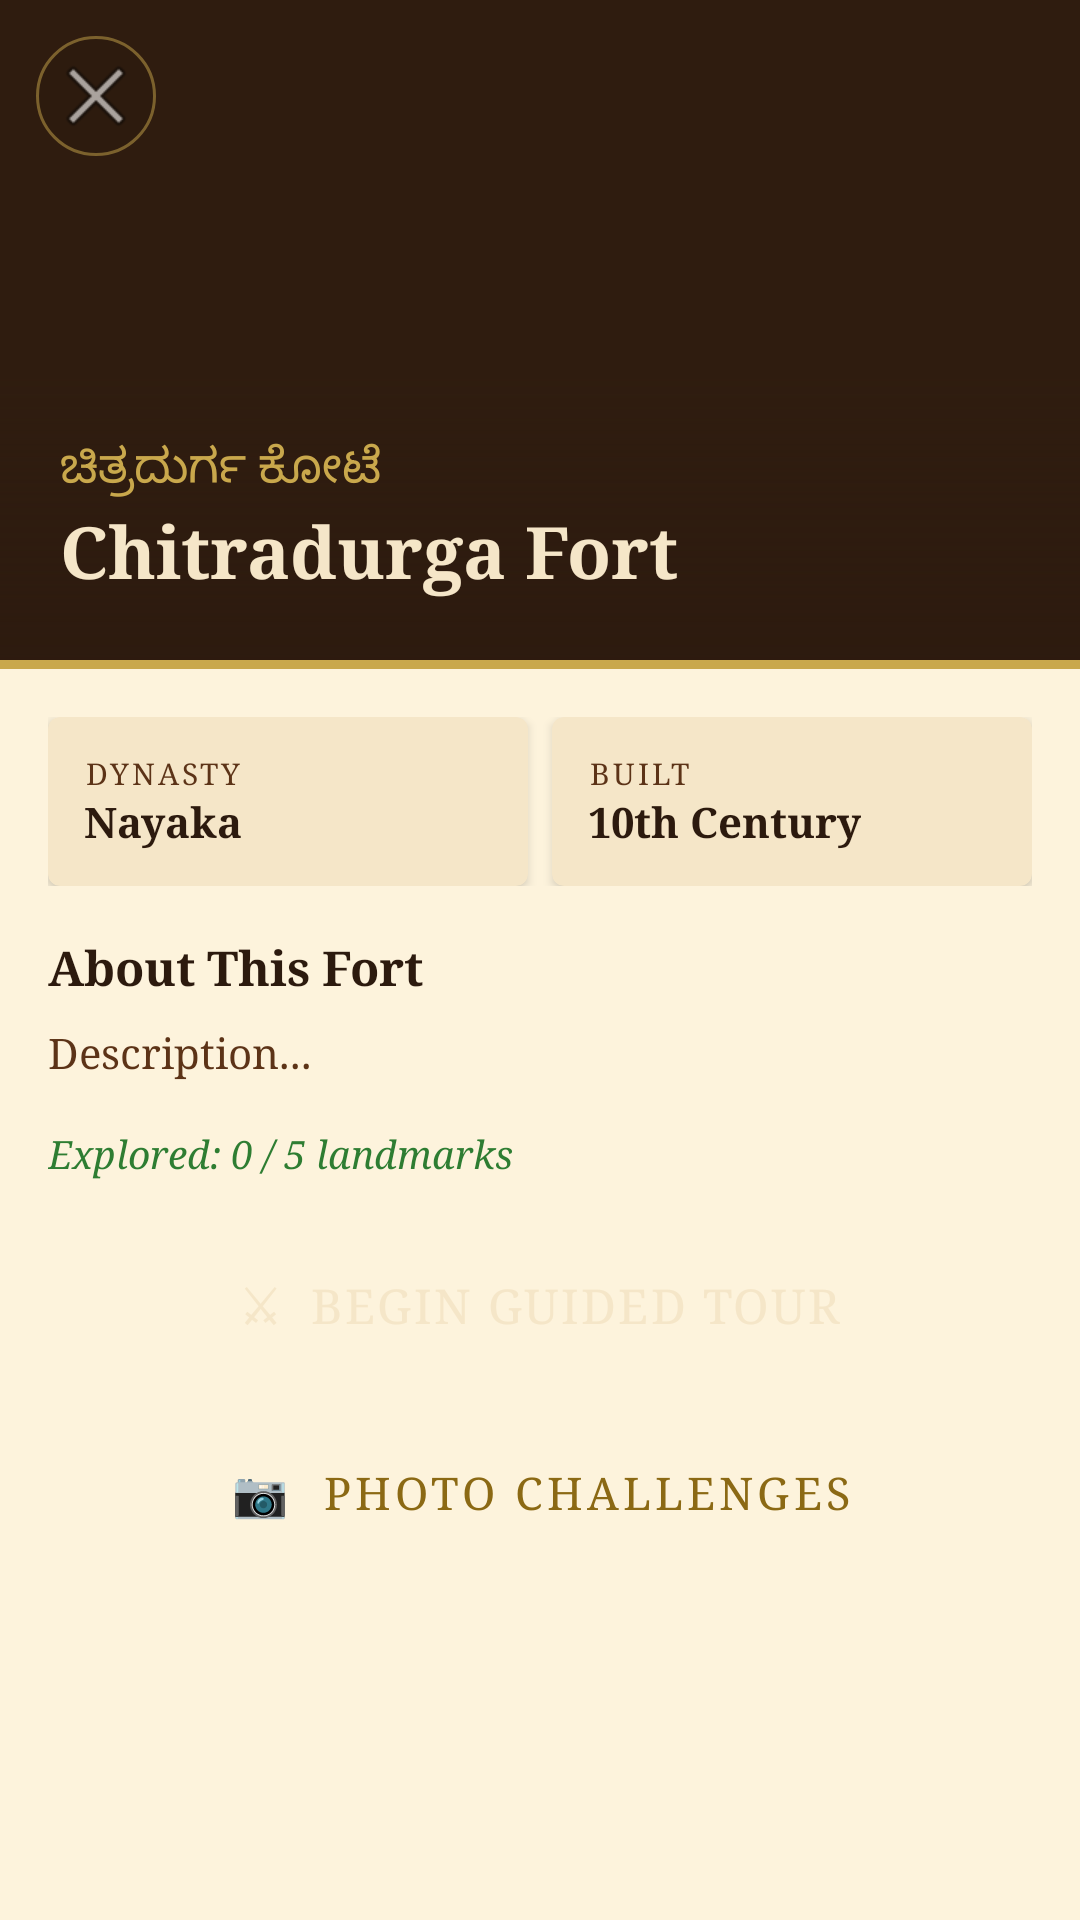

Icon click points for this 1080×1920 phone screenshot, format (x=x, y=y):
Back: (x=96, y=96)
